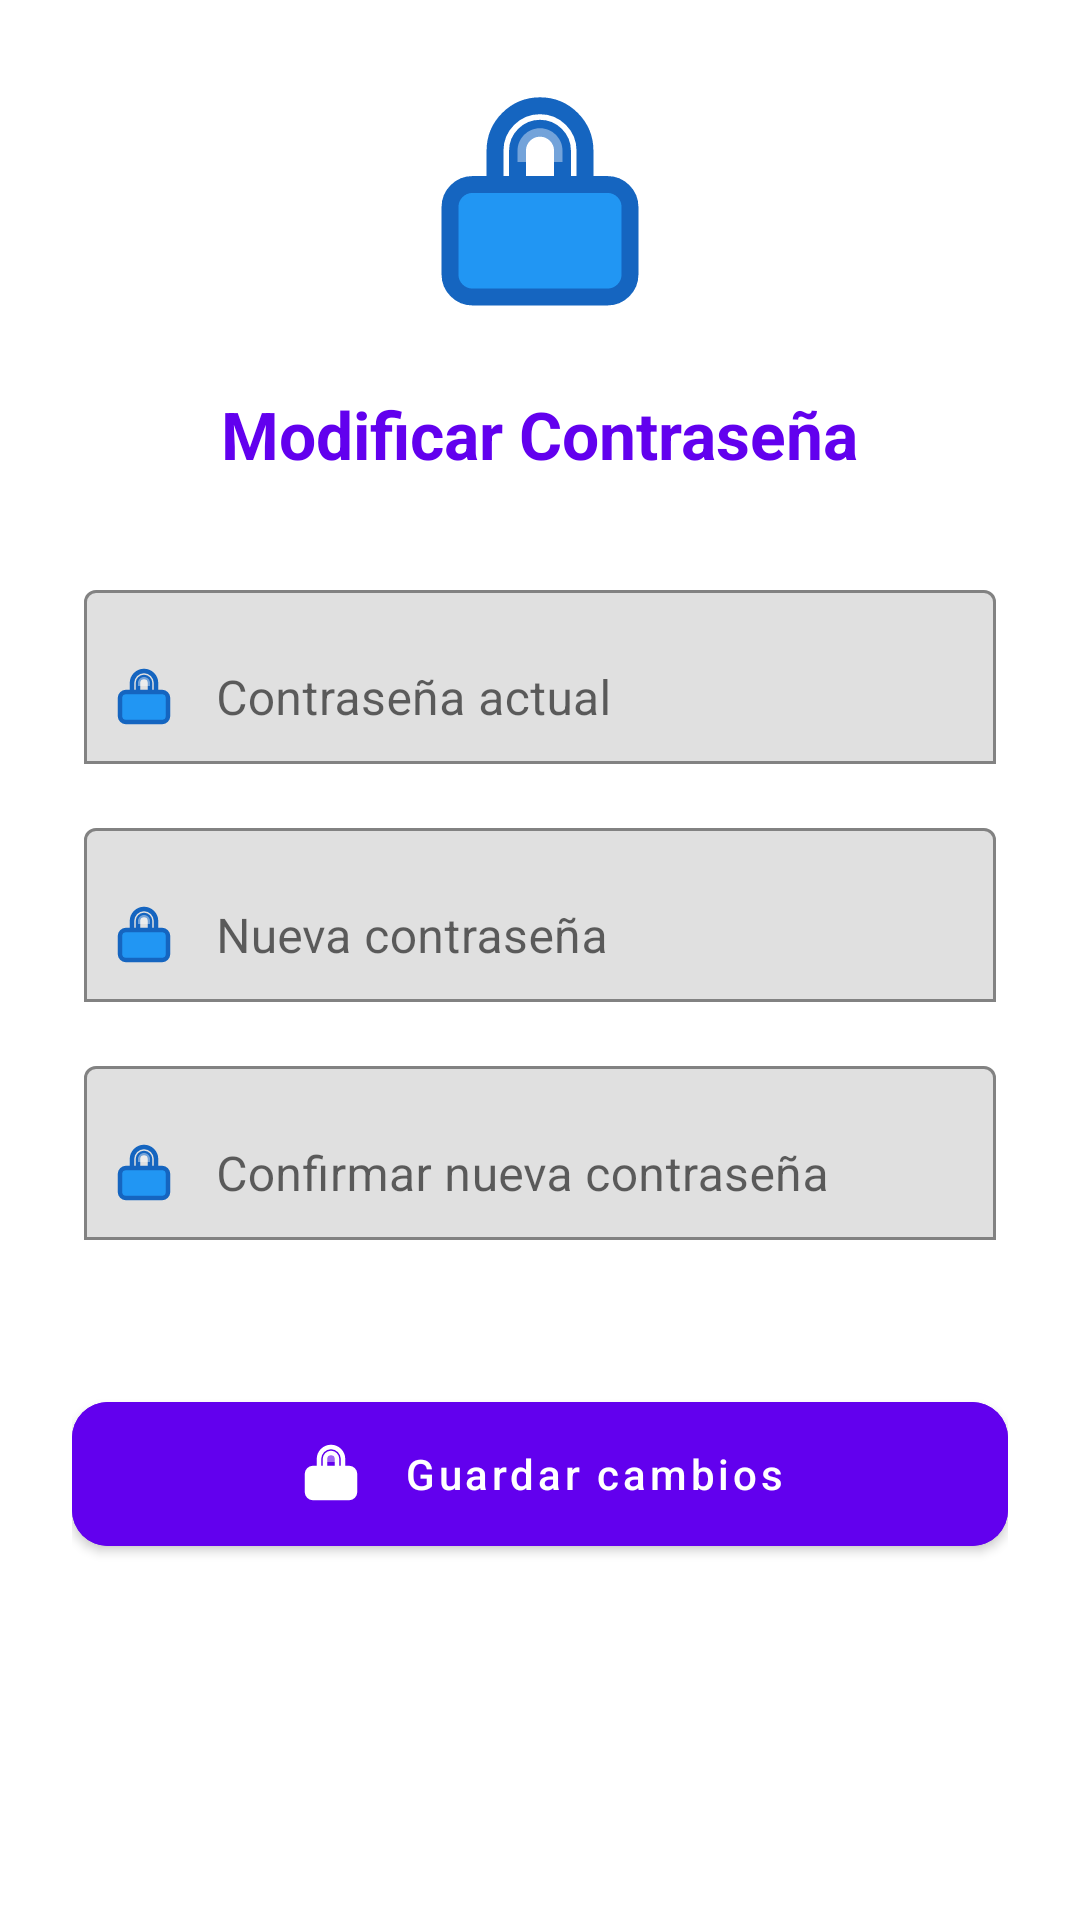

Screen size 1080w x 1920h. Icon name, then its center in pixels as [x,y]:
lock: [540,201]
